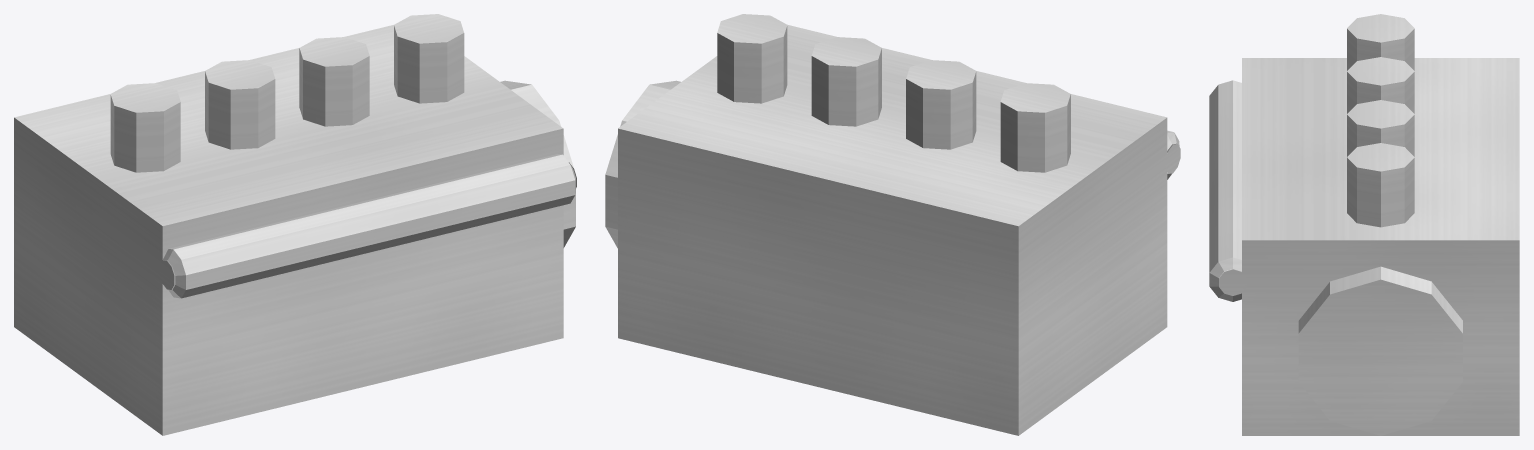
The model's file is ruin_engine.obj.
The picture shows the model from 3 angles, left to right: view 1: azimuth 30°, elevation 25°; view 2: azimuth 150°, elevation 25°; view 3: azimuth 270°, elevation 25°; orthographic projection. The views are drawn at different scales.
Visible parts, largest first — view 1: ruin_engine; view 2: ruin_engine; view 3: ruin_engine.
Boxes of the visible parts, x1,y1,x2,y2 form: ruin_engine: (14,14,576,435); ruin_engine: (605,14,1180,435); ruin_engine: (1209,14,1519,435).
Size of the model in its own units: 1.55 by 0.9 by 1.01.
